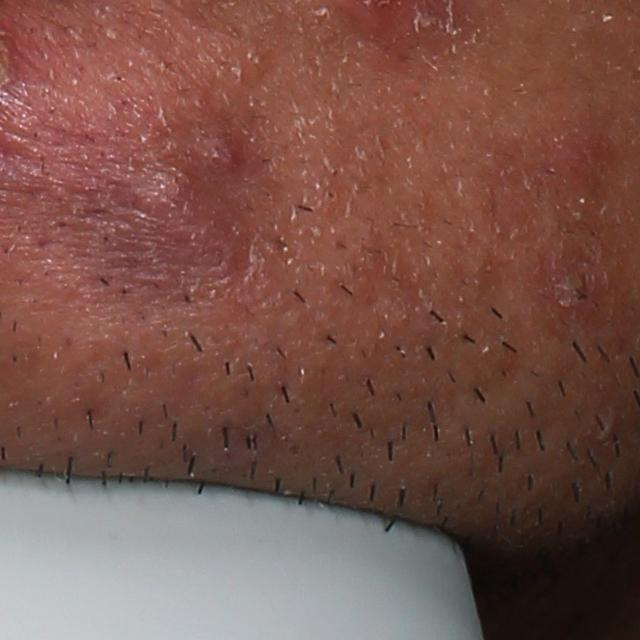papule: (533, 243, 602, 327), (538, 126, 614, 202), (119, 168, 200, 227), (180, 125, 243, 185)
